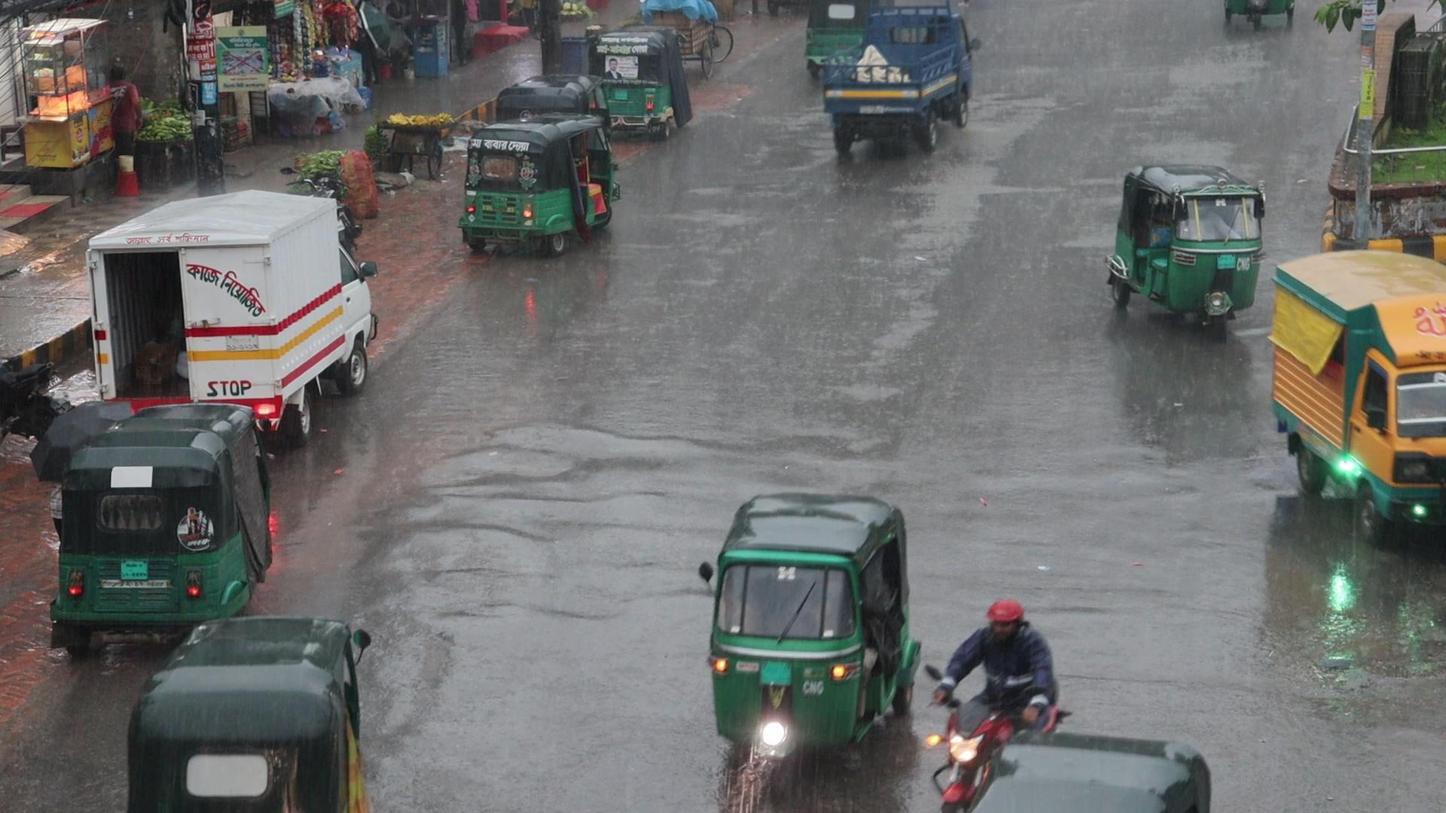Bike: (928, 597, 1062, 813)
Truck: (1261, 245, 1446, 539), (810, 6, 979, 155)
